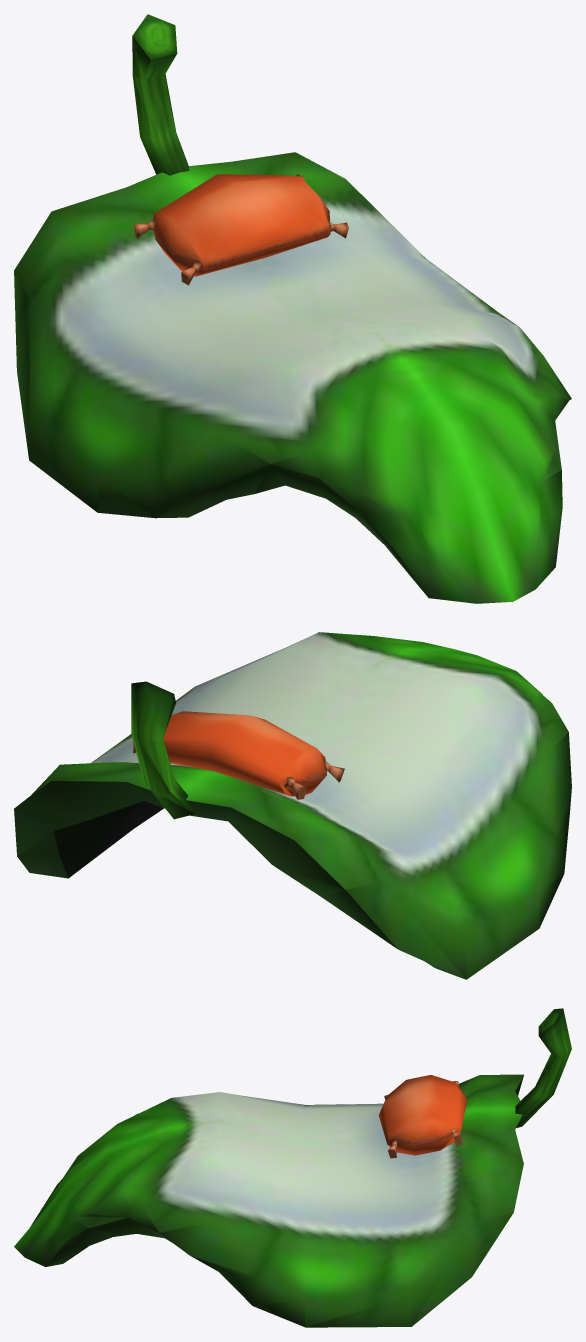
The model's file is bugRoomBed.glb.
The picture shows the model from 3 angles, top to bottom: view 1: azimuth 30°, elevation 25°; view 2: azimuth 150°, elevation 25°; view 3: azimuth 270°, elevation 25°; orthographic projection. The views are drawn at different scales.
Visible parts, largest first — view 1: LeafBed, PillowCase, Stem1; view 2: LeafBed, PillowCase, Stem1; view 3: LeafBed, PillowCase, Stem1.
Part boxes in pixels (bbox=[...]): LeafBed: bbox=[14, 152, 571, 603]; PillowCase: bbox=[153, 174, 330, 276]; Stem1: bbox=[132, 14, 189, 175]; LeafBed: bbox=[14, 632, 571, 979]; PillowCase: bbox=[163, 711, 326, 796]; Stem1: bbox=[131, 681, 195, 819]; LeafBed: bbox=[14, 1074, 523, 1327]; PillowCase: bbox=[378, 1075, 467, 1155]; Stem1: bbox=[515, 1008, 571, 1127].
Bounding box in the file's own units: 6.71 × 4.63 × 9.79.
4 materials, 4 textured.
